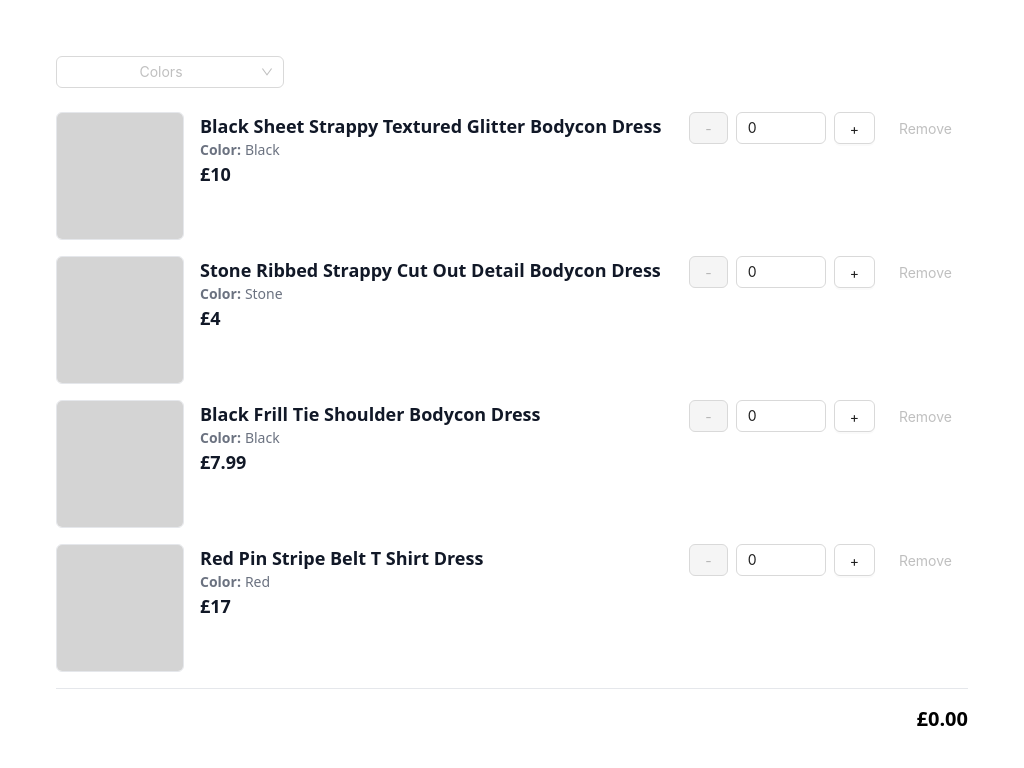
it: Products component › total state is calculated correctly based on quantity and product prices
What coordinates should you click on to do the following:
click the button with test id "plus-quantity-1"
I would click on:
 (854, 128)
Its box is [834,112,875,144].
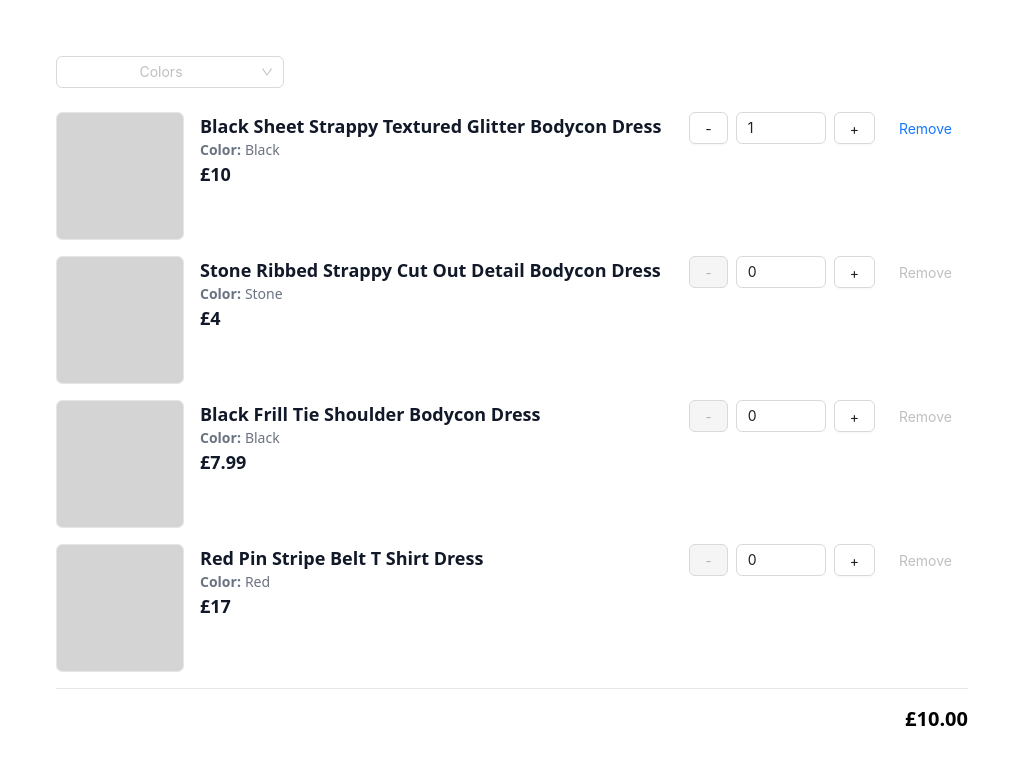
Check: the text with test id "total-price" reads "£10.00", box [905,705,968,732]
